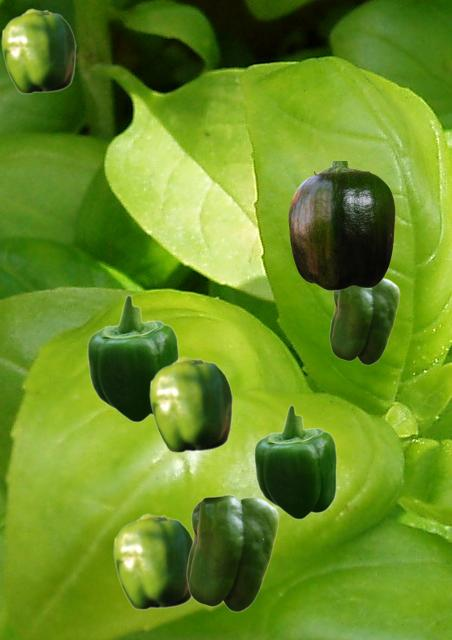bell_pepper: (288, 161, 394, 289), (86, 294, 178, 422), (186, 494, 278, 611), (253, 404, 336, 519), (149, 356, 232, 452), (113, 513, 192, 609), (1, 8, 75, 93), (329, 278, 399, 364)
